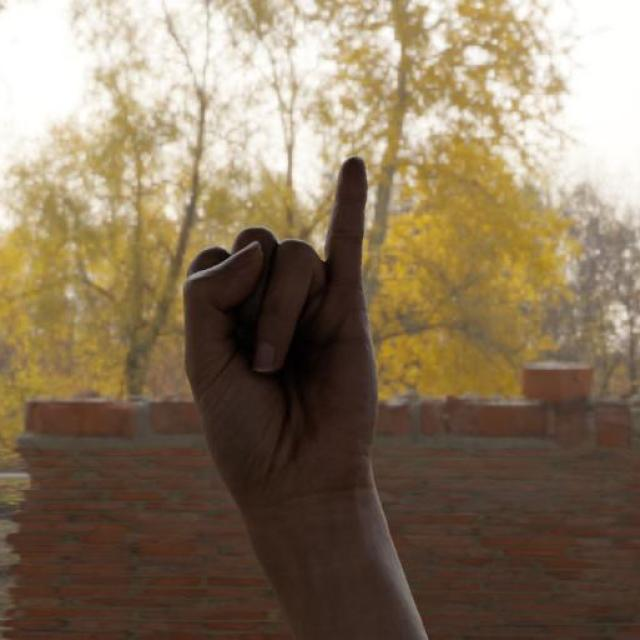I: (180, 152, 383, 517)
